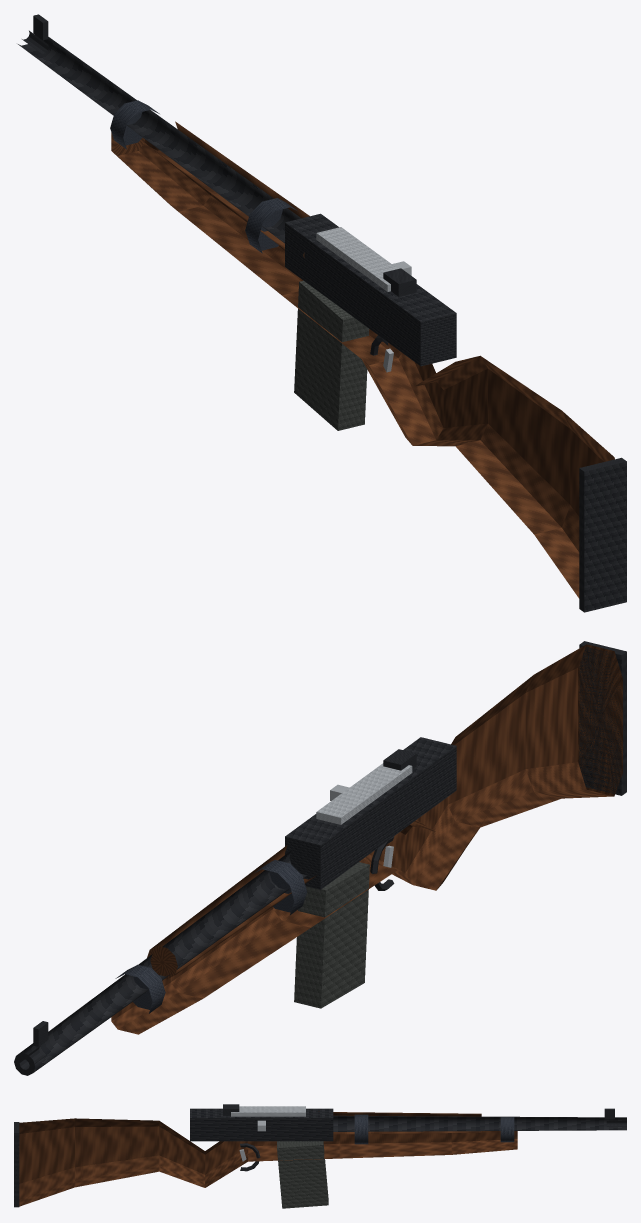
File: m1_carbine.glb
The picture shows the model from 3 angles, top to bottom: view 1: azimuth 30°, elevation 25°; view 2: azimuth 150°, elevation 25°; view 3: azimuth 270°, elevation 25°; orthographic projection. The views are drawn at different scales.
Parts seen in each view (by area): view 1: WeaponMesh; view 2: WeaponMesh; view 3: WeaponMesh.
Part boxes in pixels (<box>): WeaponMesh: <box>18,14,626,612</box>; WeaponMesh: <box>14,641,626,1075</box>; WeaponMesh: <box>14,1104,626,1208</box>.
Bounding box in the file's own units: 0.055 × 0.1596 × 0.898.
5 materials, 5 textured.
